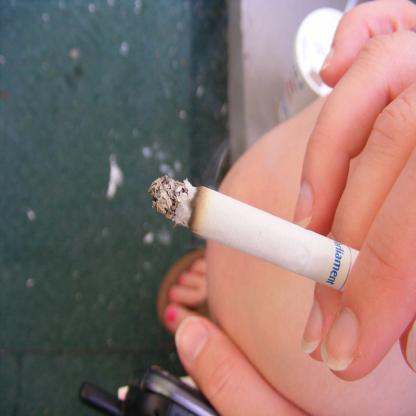smoking: (150, 176, 390, 300)
